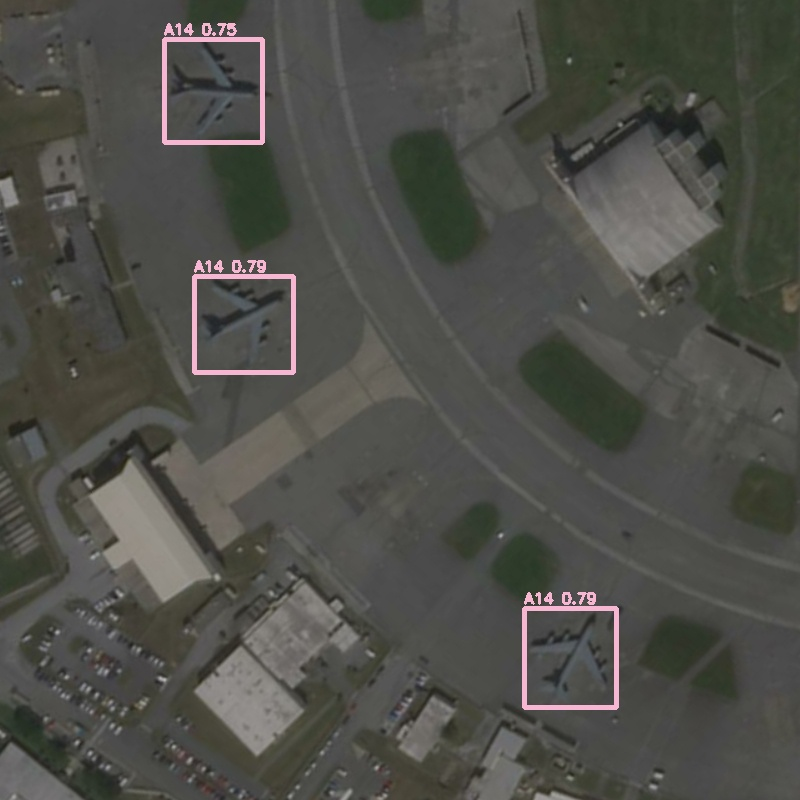A14: (164, 39, 262, 142), (194, 276, 293, 372), (524, 608, 616, 707)
